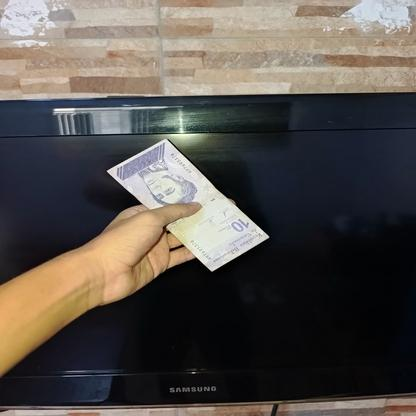ten-front-vef: (104, 138, 269, 271)
